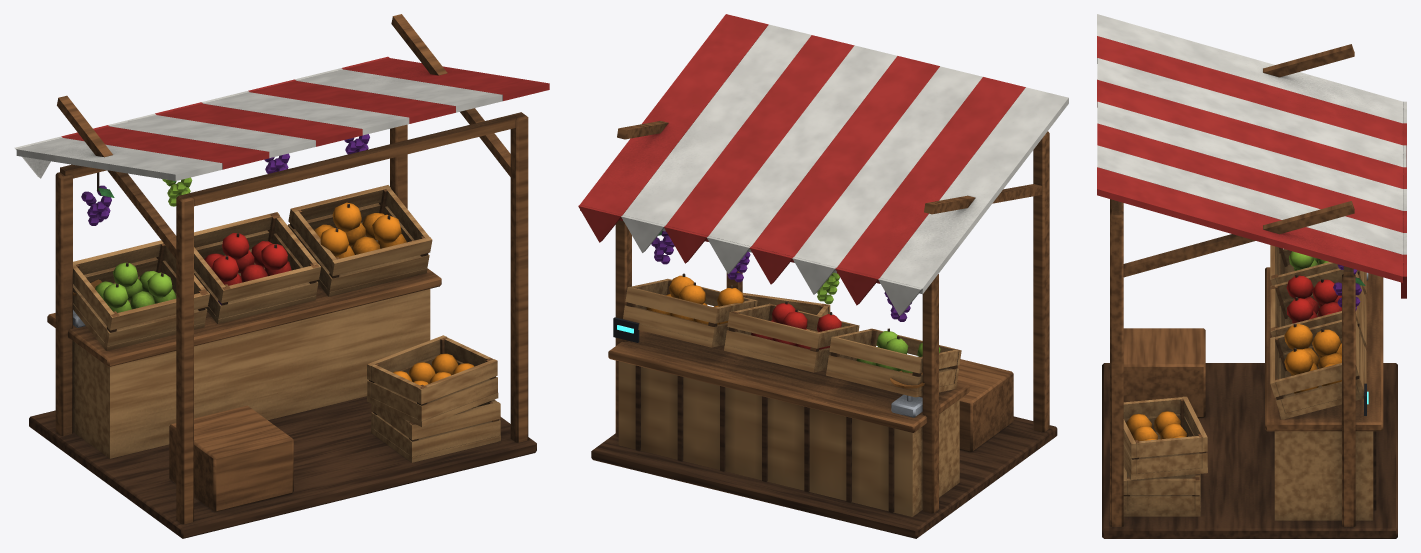
File: puesto_fruta.fbx
3 views of the same model, side by side, from view 1: azimuth 30°, elevation 25°; view 2: azimuth 150°, elevation 25°; view 3: azimuth 270°, elevation 25° (orthographic). The views are drawn at different scales.
Visible parts, largest first — view 1: puesto_fruta; view 2: puesto_fruta; view 3: puesto_fruta.
Boxes of the visible parts, x1,y1,x2,y2 form: puesto_fruta: (14, 14, 549, 538); puesto_fruta: (578, 14, 1068, 538); puesto_fruta: (1097, 14, 1406, 538).
Size of the model in its own units: 4.2 by 3.97 by 3.14.
Materials: 2 (2 with a texture image).
